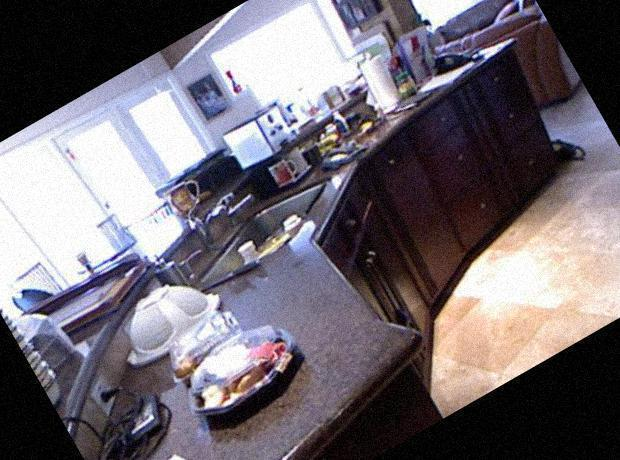Lavaplatos: (141, 127, 371, 324)
